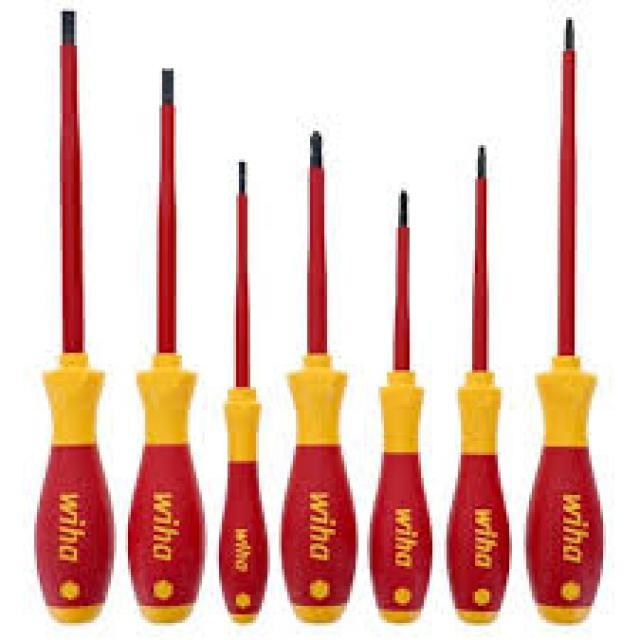screwdriver: (520, 10, 608, 630), (30, 10, 118, 627), (122, 65, 210, 623), (274, 120, 362, 620), (441, 143, 515, 632), (367, 183, 432, 628), (213, 148, 270, 623)
